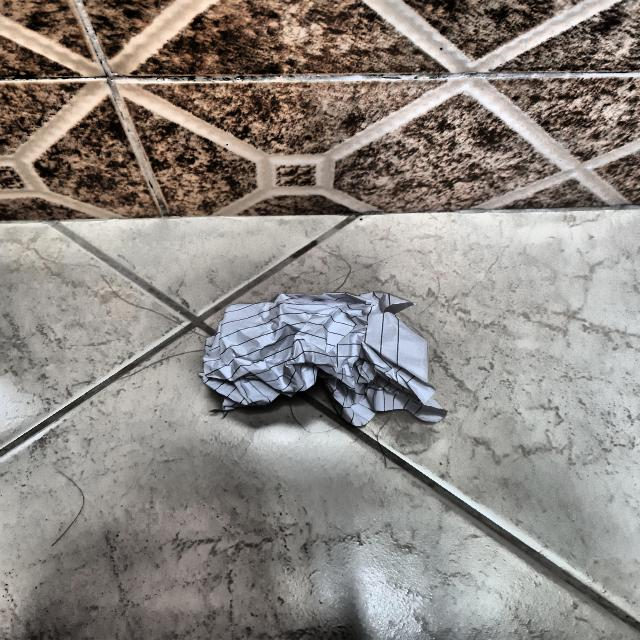Paper: (210, 291, 433, 427)
